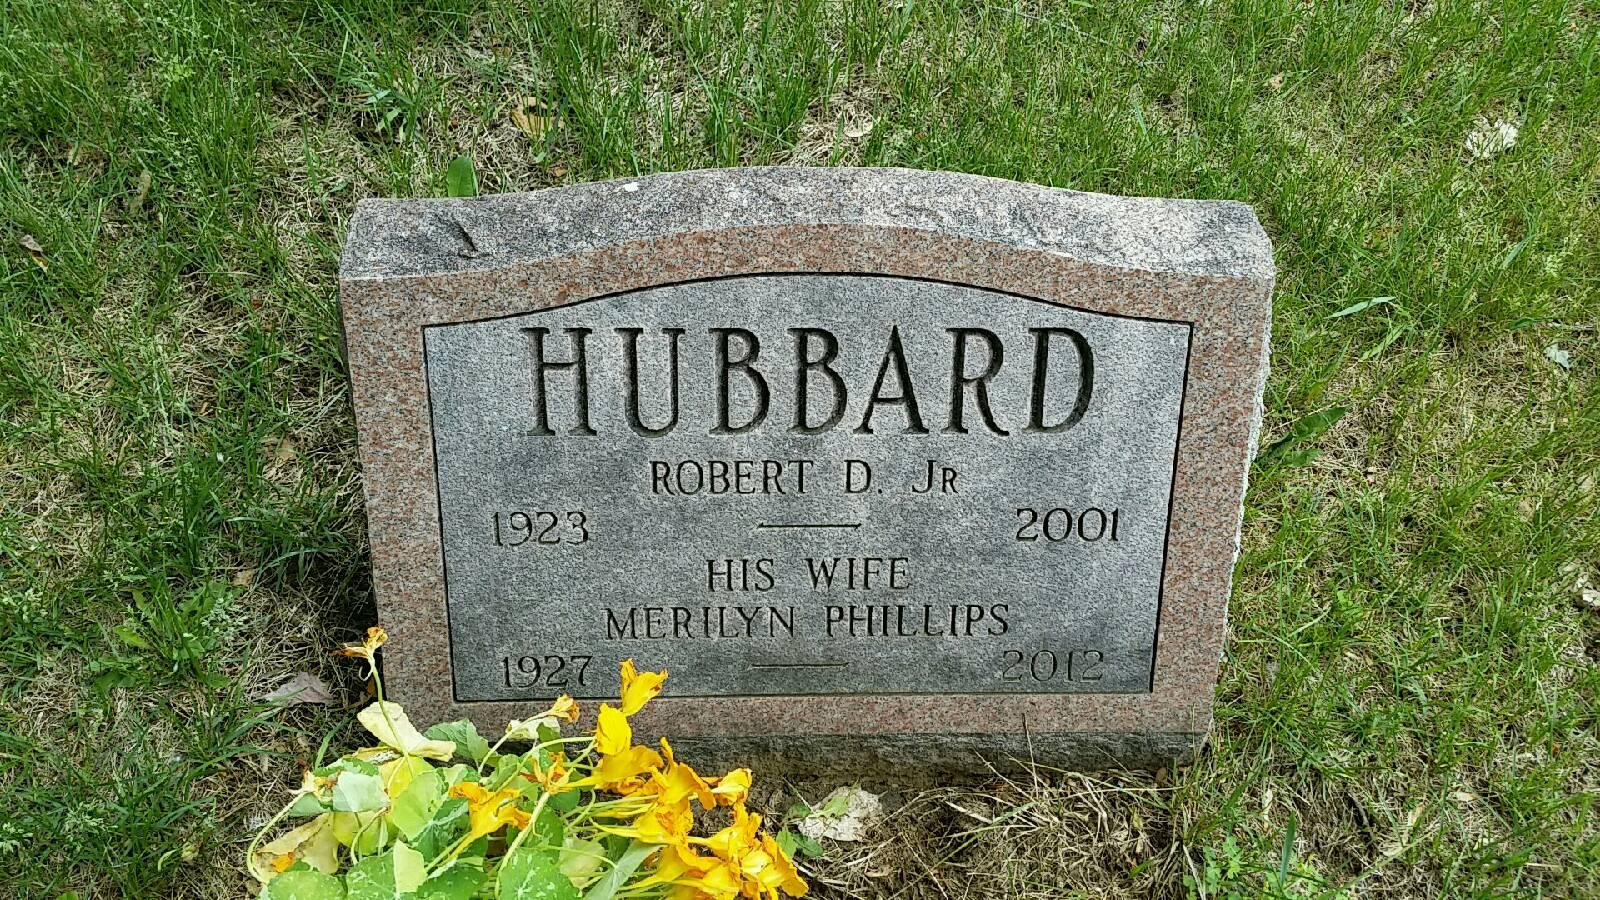slant: (343, 162, 1275, 748)
